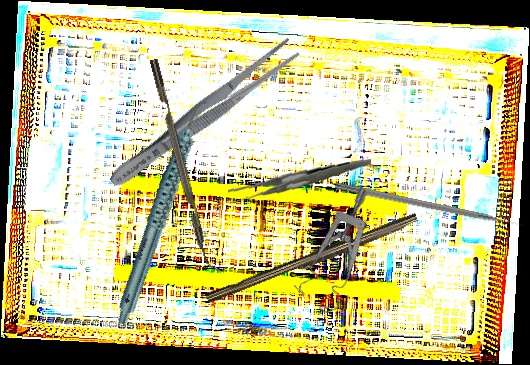Chopper: (149, 55, 222, 276)
Dressing Forceps: (103, 34, 303, 195), (227, 149, 371, 214)
Handpiece: (73, 97, 253, 327)
Hook Surgical: (334, 182, 524, 231)
Scalpel Handle: (205, 209, 420, 310)
Speculum: (276, 185, 411, 320)
